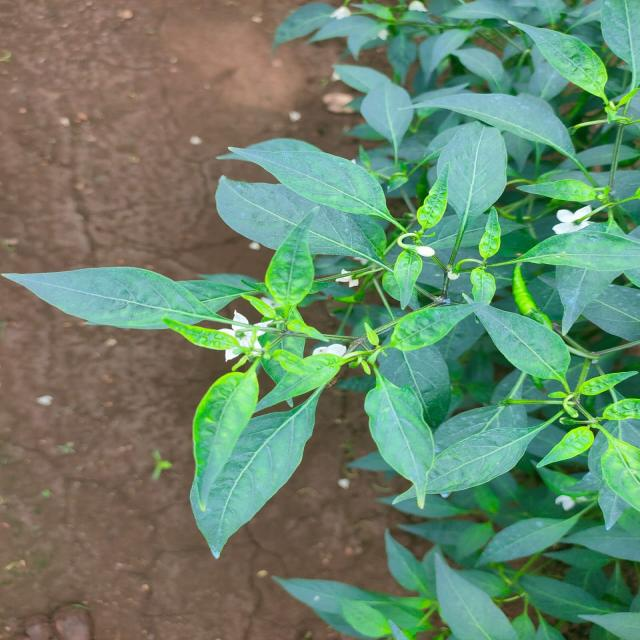Mosaic_virus: (191, 0, 640, 640)
